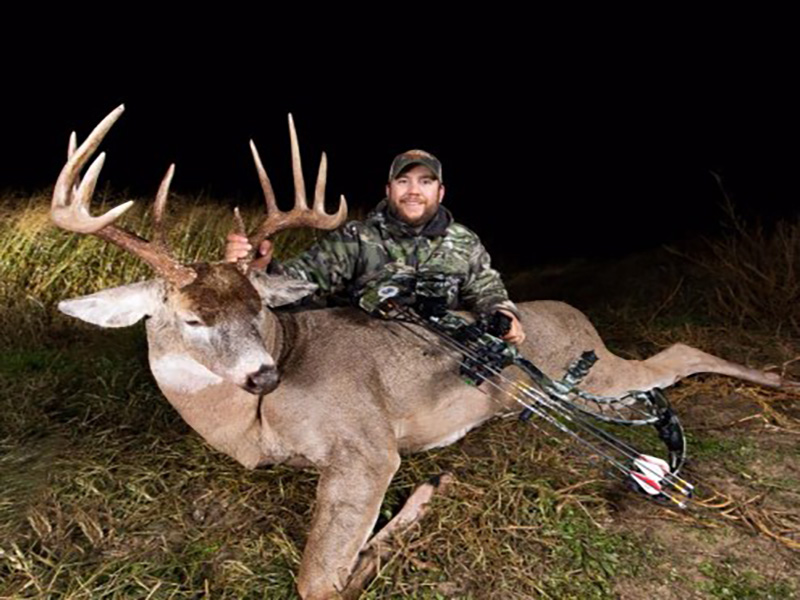cacciatore: (236, 141, 533, 360)
cervo: (40, 103, 361, 440)
